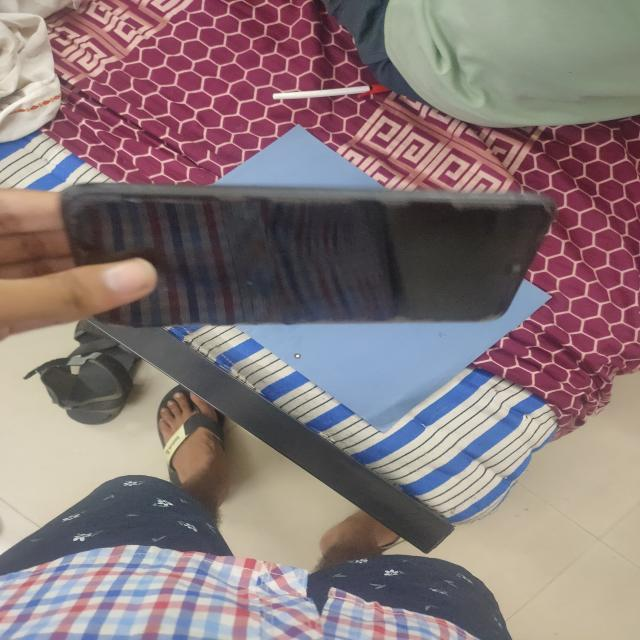Phone: (59, 180, 556, 330)
